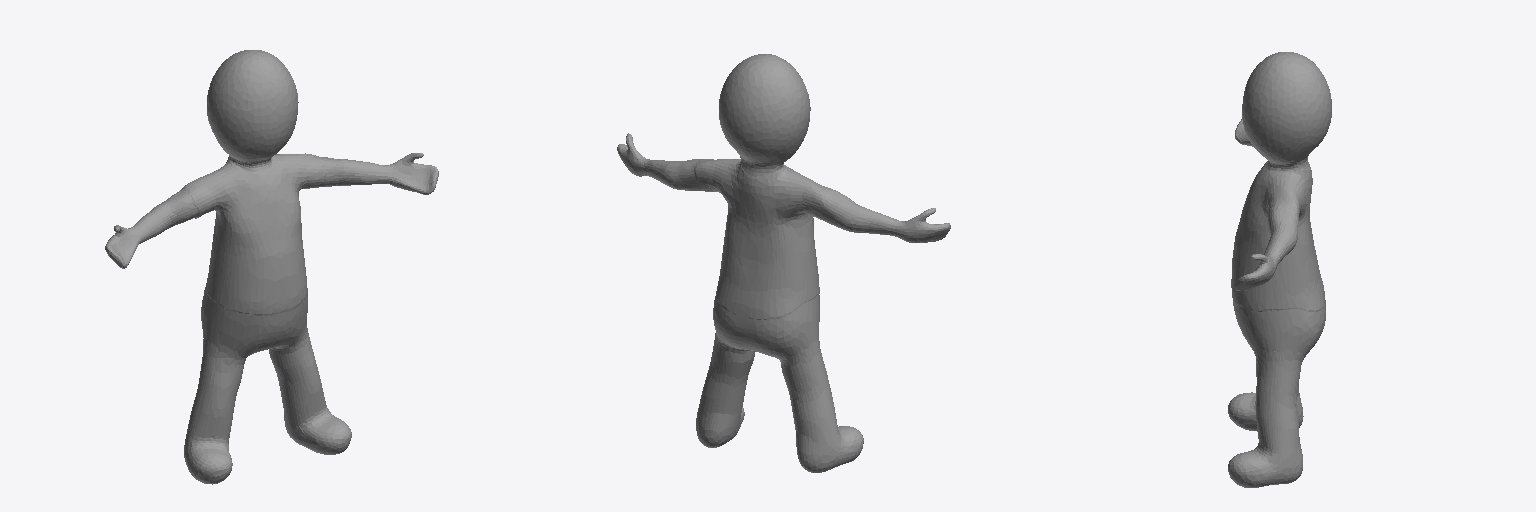
Rendered from Stick_Figure_by_Swp.OBJ.
The picture shows the model from 3 angles: view 1: azimuth 30°, elevation 25°; view 2: azimuth 150°, elevation 25°; view 3: azimuth 270°, elevation 25°; orthographic projection.
Parts seen in each view (by area): view 1: Stick_Figure_by_Swp; view 2: Stick_Figure_by_Swp; view 3: Stick_Figure_by_Swp.
Part boxes in pixels (x1,y1,x2,y2): Stick_Figure_by_Swp: (105,50,438,484); Stick_Figure_by_Swp: (617,54,950,472); Stick_Figure_by_Swp: (1228,52,1331,487).
Size of the model in its own units: 1.05 by 1.22 by 0.2866.